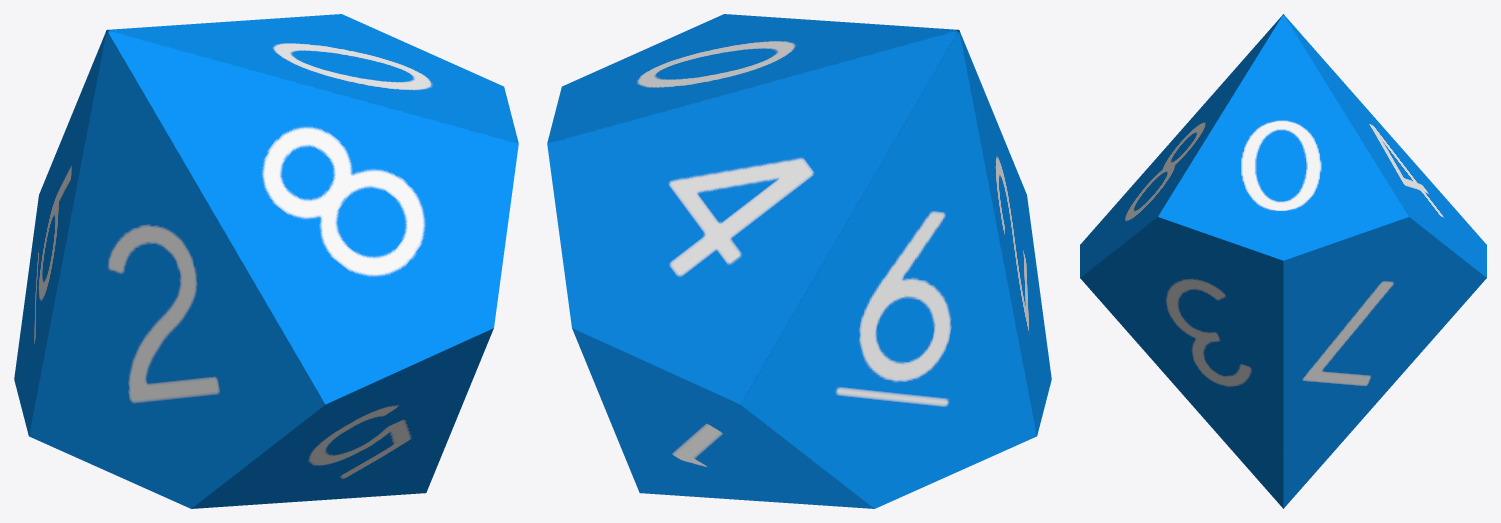
Rendered from d10_gfx.fbx.
3 views of the same model, side by side, from view 1: azimuth 30°, elevation 25°; view 2: azimuth 150°, elevation 25°; view 3: azimuth 270°, elevation 25° (orthographic). The views are drawn at different scales.
Visible parts, largest first — view 1: d10; view 2: d10; view 3: d10.
Boxes of the visible parts, <box> form: d10: <box>14,14,518,508</box>; d10: <box>547,14,1051,508</box>; d10: <box>1080,14,1486,508</box>.
Size of the model in its own units: 179 by 195 by 187.
